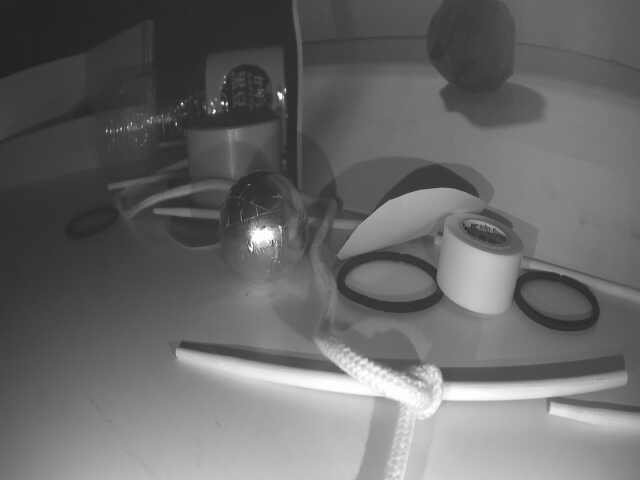Live: (217, 176, 308, 282)
Point: (0, 98, 138, 188)
